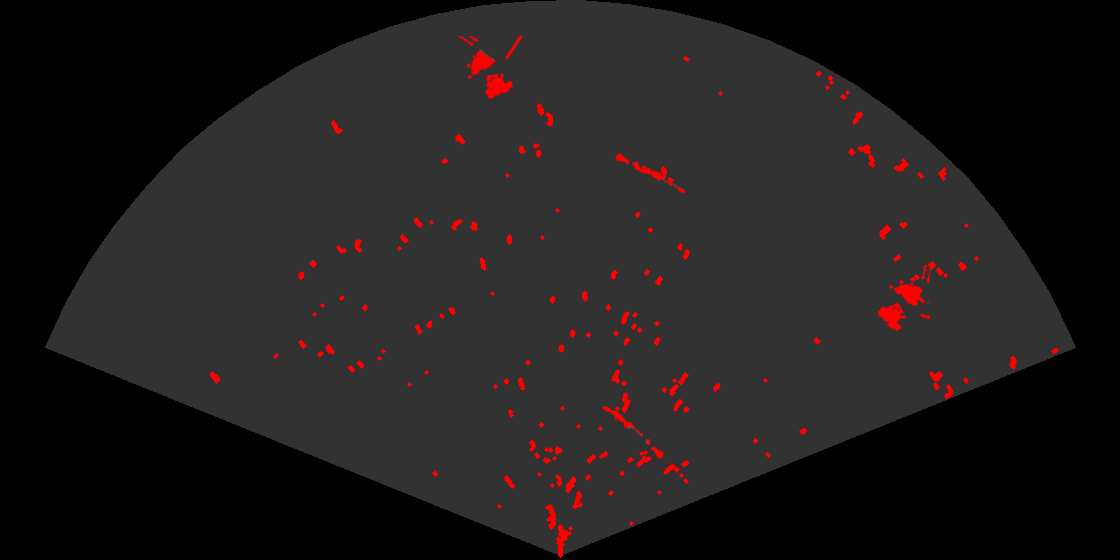cage: (456, 36, 525, 100), (876, 265, 930, 333)
chain: (601, 404, 674, 465), (611, 151, 687, 195)
